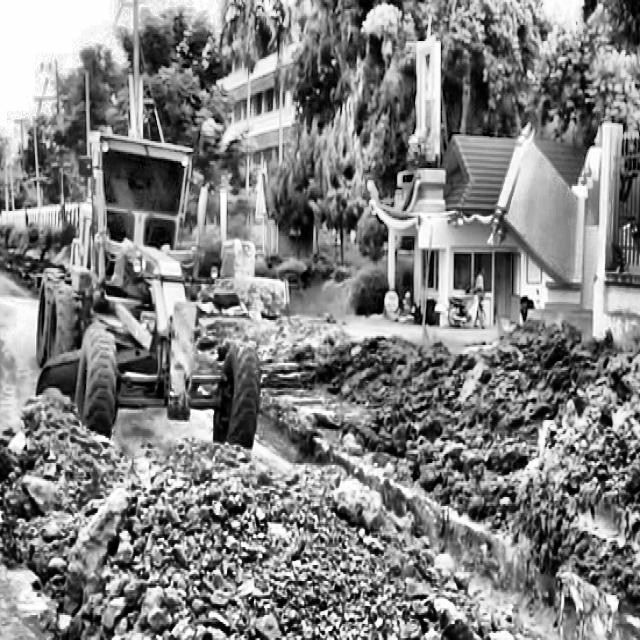buldozerpayloadergrader: (30, 130, 261, 456)
